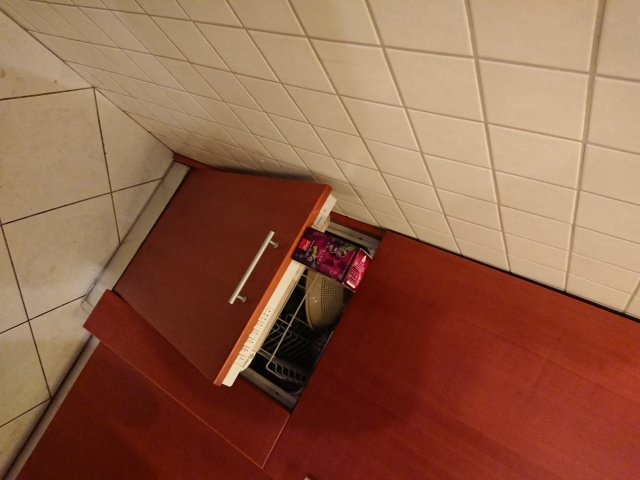Franck Black Currant Tea 60g: (288, 224, 374, 294)
